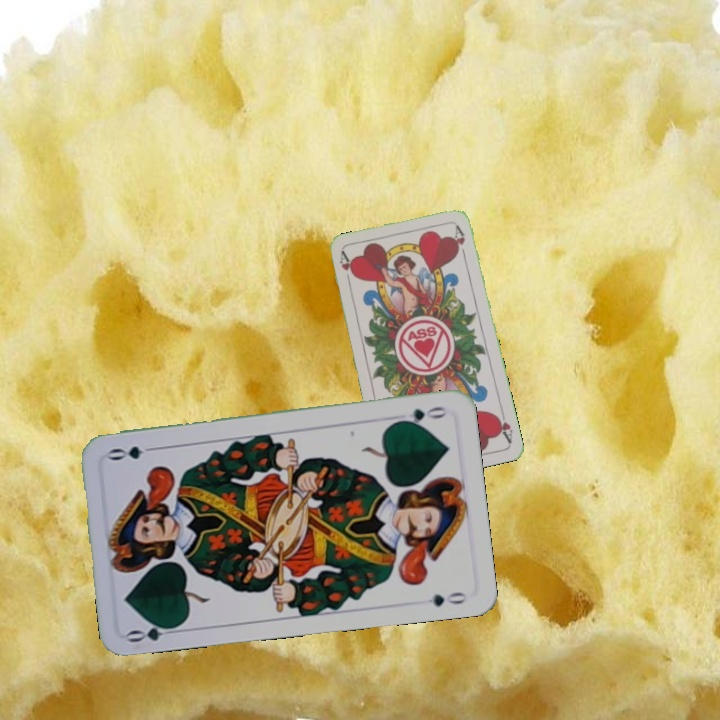GO: (124, 618, 183, 645), (392, 402, 450, 427)
HA: (492, 405, 515, 445), (335, 248, 355, 289)
